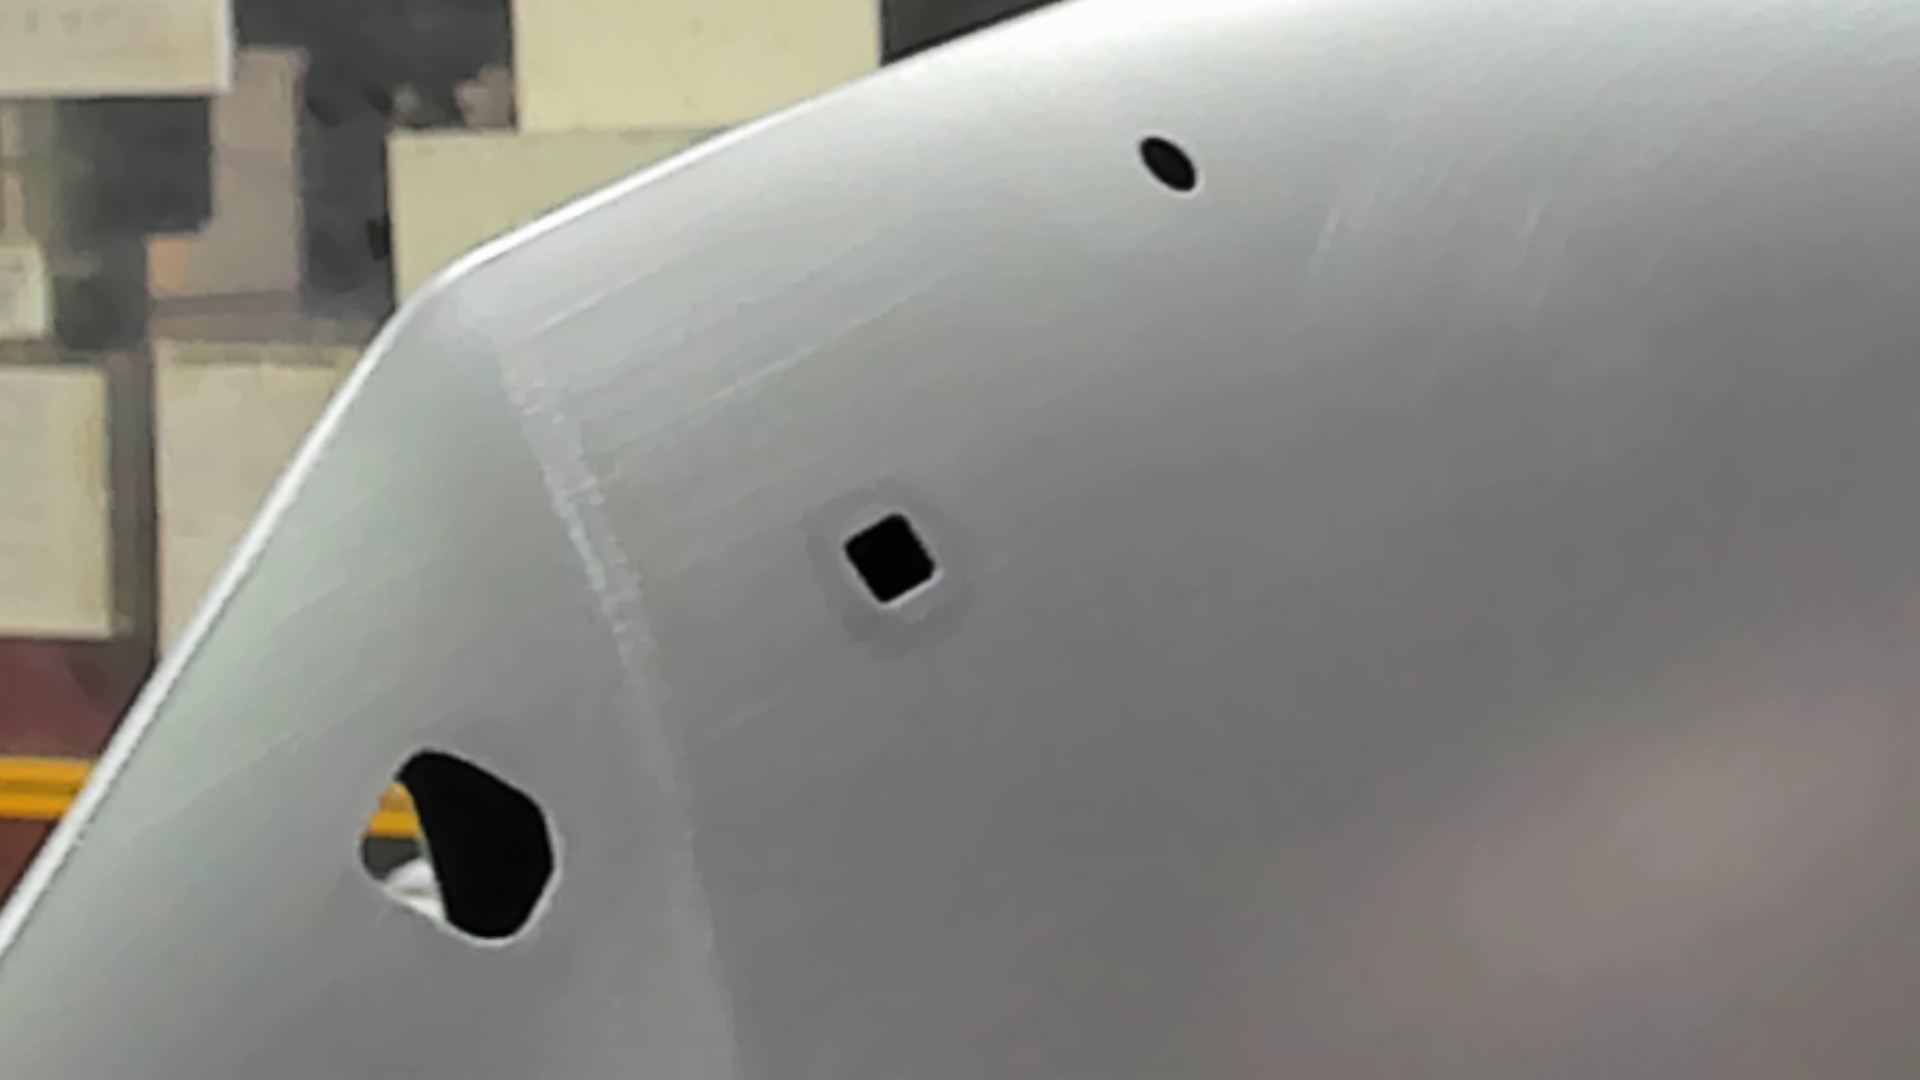chico: (1134, 128, 1205, 199)
grande: (353, 746, 560, 953)
mediano: (836, 508, 945, 615)
